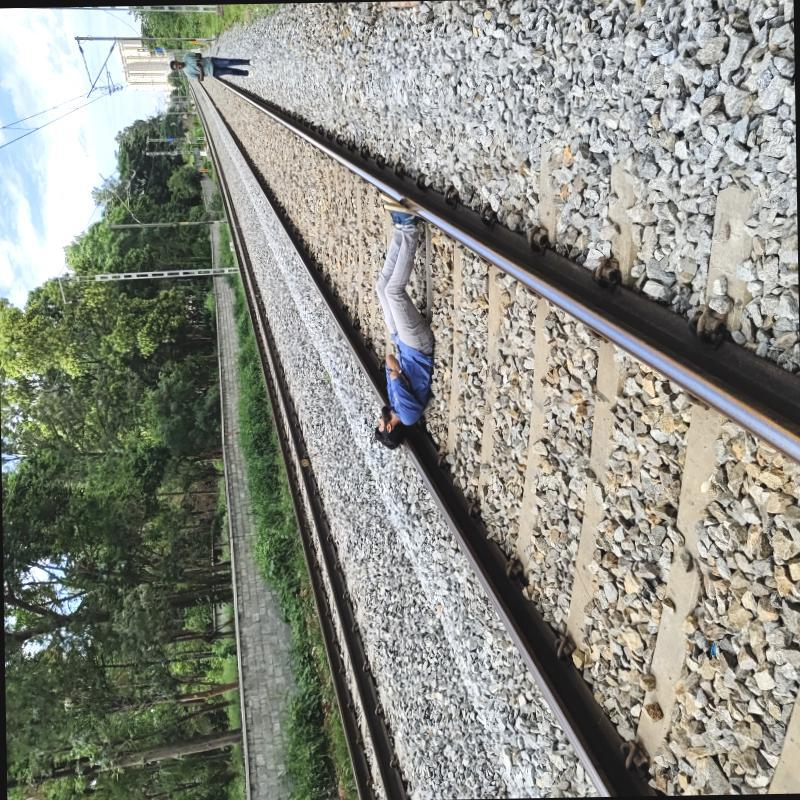sleeping: (358, 193, 432, 452)
